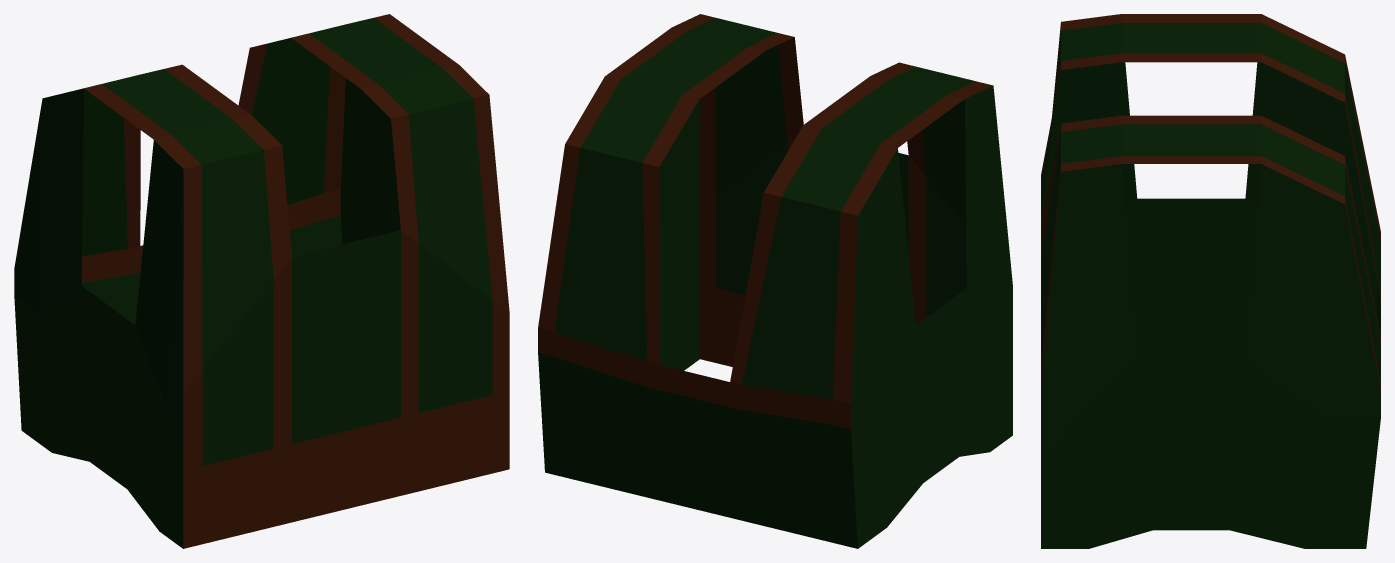
Rendered from vest.obj.
3 views of the same model, side by side, from view 1: azimuth 30°, elevation 25°; view 2: azimuth 150°, elevation 25°; view 3: azimuth 270°, elevation 25° (orthographic). The views are drawn at different scales.
Visible parts, largest first — view 1: vest; view 2: vest; view 3: vest.
Part boxes in pixels (x1,y1,x2,y2): vest: [14, 14, 509, 548]; vest: [538, 14, 1012, 548]; vest: [1041, 14, 1380, 548].
Bounding box in the file's own units: 0.2023 × 0.2237 × 0.1814.
